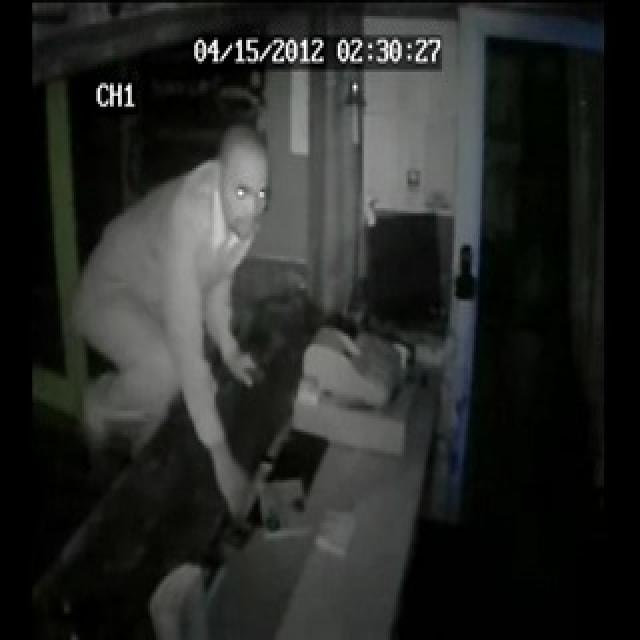thief: (178, 115, 270, 318)
